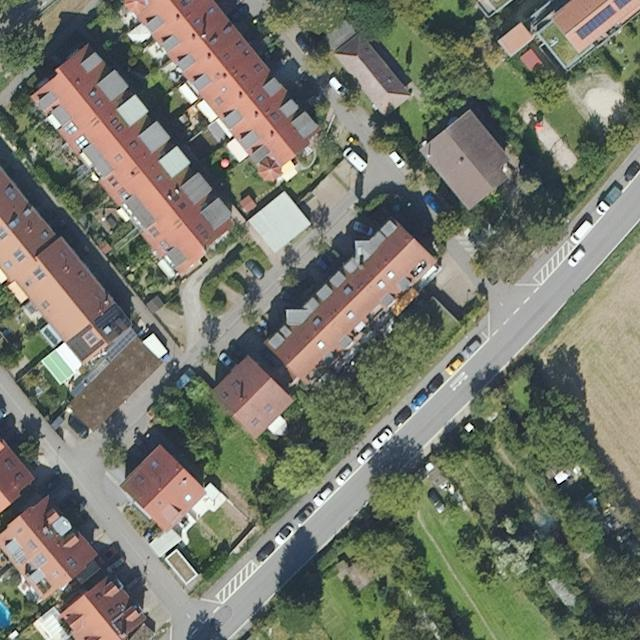PV: (574, 4, 620, 42), (102, 330, 138, 367), (93, 303, 134, 334), (612, 0, 633, 12)
